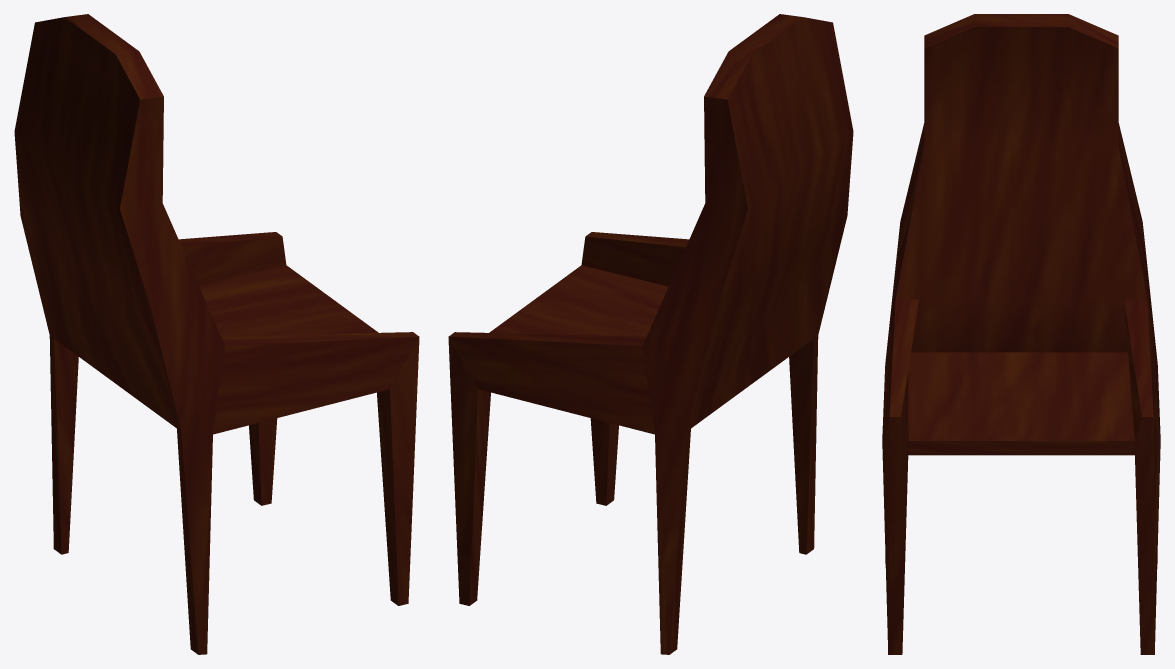
The model's file is Chair 1.fbx.
3 renders of one model, left to right at view 1: azimuth 30°, elevation 25°; view 2: azimuth 150°, elevation 25°; view 3: azimuth 270°, elevation 25°, orthographic. The views are drawn at different scales.
Visible parts, largest first — view 1: Chair_1_1; view 2: Chair_1_1; view 3: Chair_1_1.
Boxes of the visible parts, box(x1,y1,x2,y2) form: Chair_1_1: box(14, 14, 419, 654); Chair_1_1: box(448, 14, 853, 654); Chair_1_1: box(882, 14, 1160, 654).
Size of the model in its own units: 88.33 by 173 by 82.29.
1 material, 1 textured.
